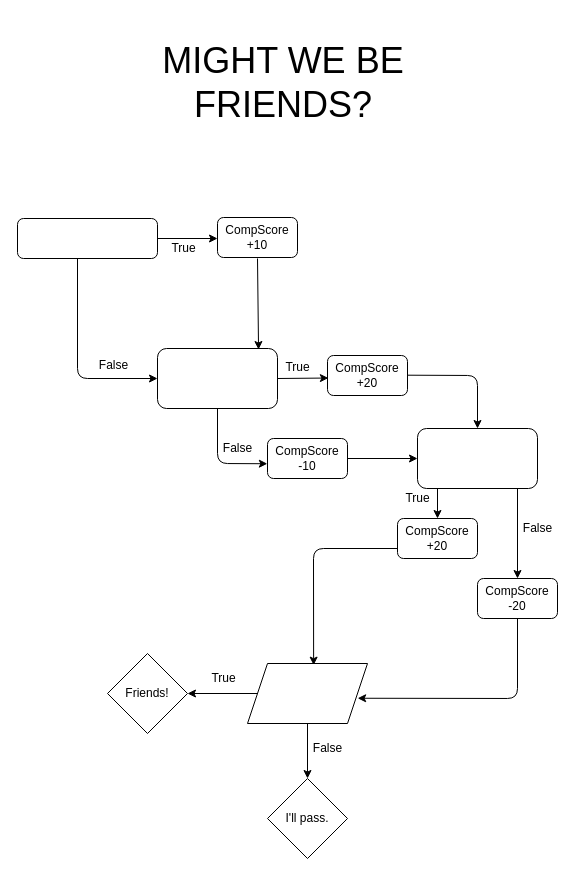
The diagram is 575 pixels wide and 876 high, and some of its shapes have lost their labels. Each missing label, with the box of its shape:
Are you interested in cars?: (156, 348, 278, 408)
Do you enjoy playing video games?: (416, 428, 538, 488)
Do you like metal music?: (16, 218, 158, 258)
if CompScore>30: (246, 662, 368, 724)
